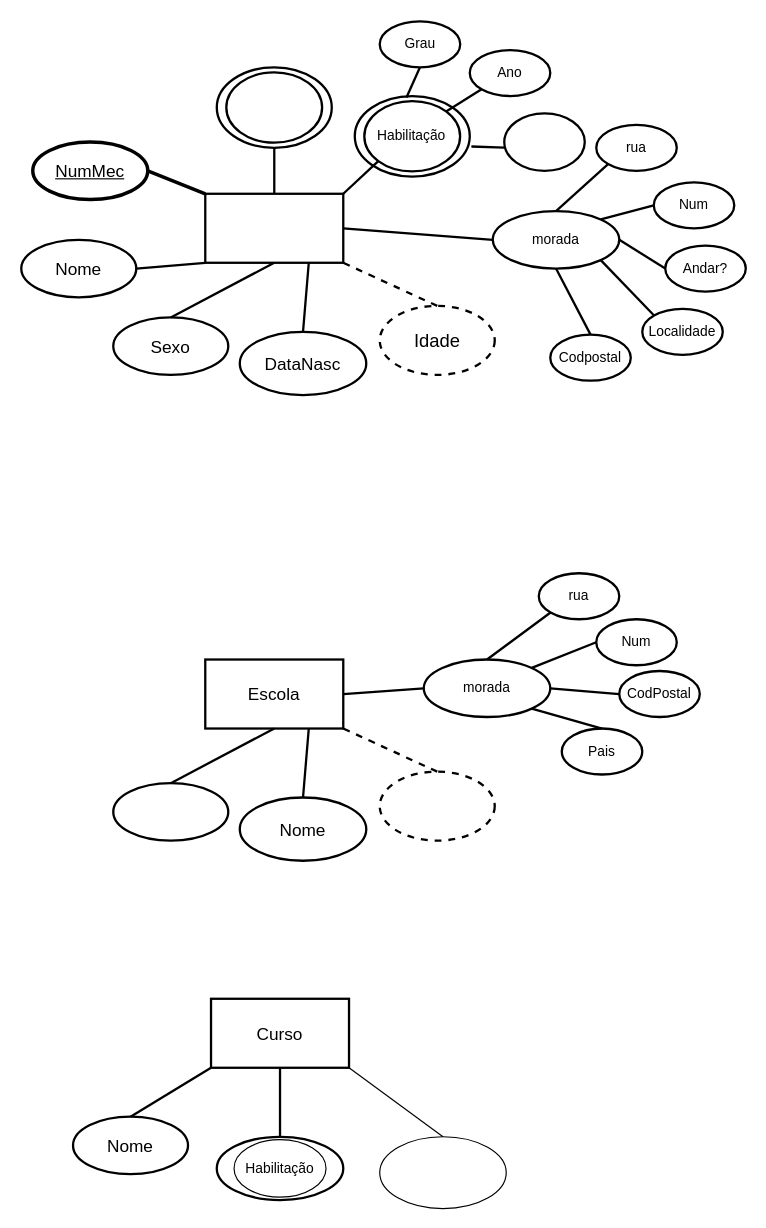
Some shapes in this 766 by 1228 pixel diagram are drawn without their labels. The box of each missing label's shape, as (x1, y1, x2, y2) in pixels:
activo?: (379, 1136, 506, 1209)
Aluno: (204, 192, 344, 263)
CodEscola: (112, 781, 229, 841)
Instituição: (503, 112, 585, 171)
Numtelef: (225, 71, 323, 143)
Telefone: (378, 770, 495, 841)
